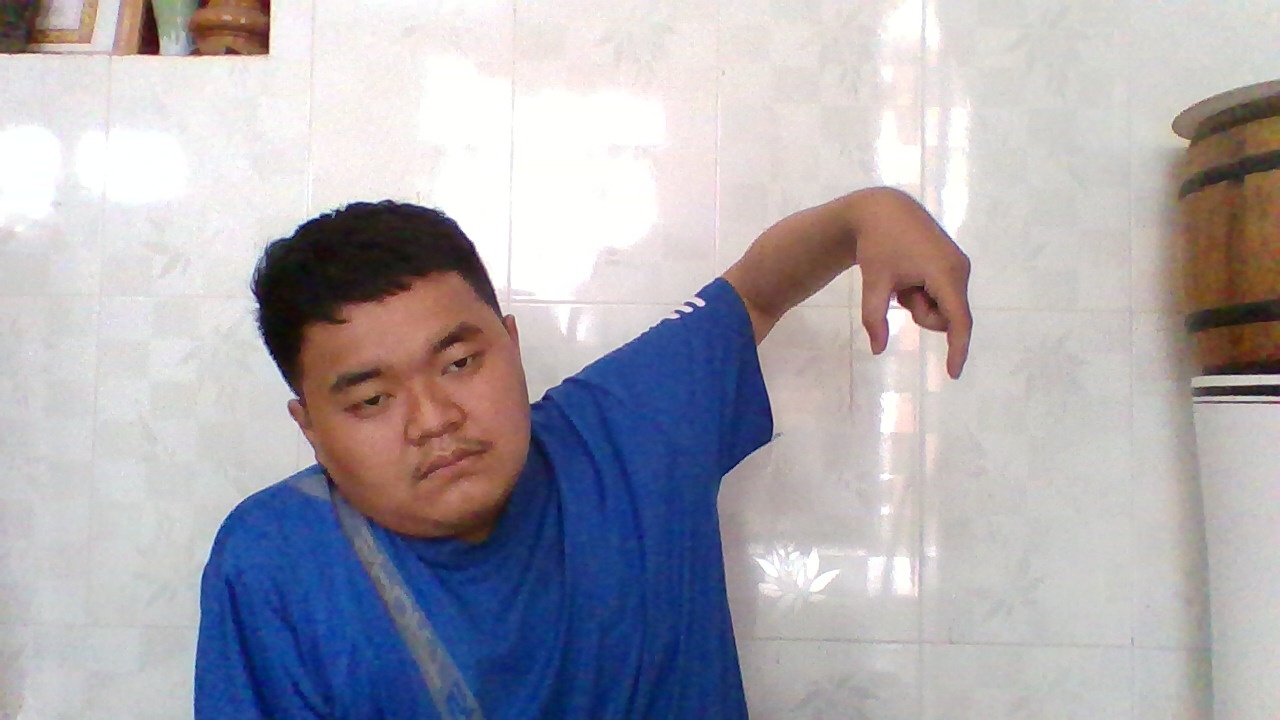Q: (851, 187, 979, 392)
